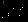person: (5, 3, 12, 17)
